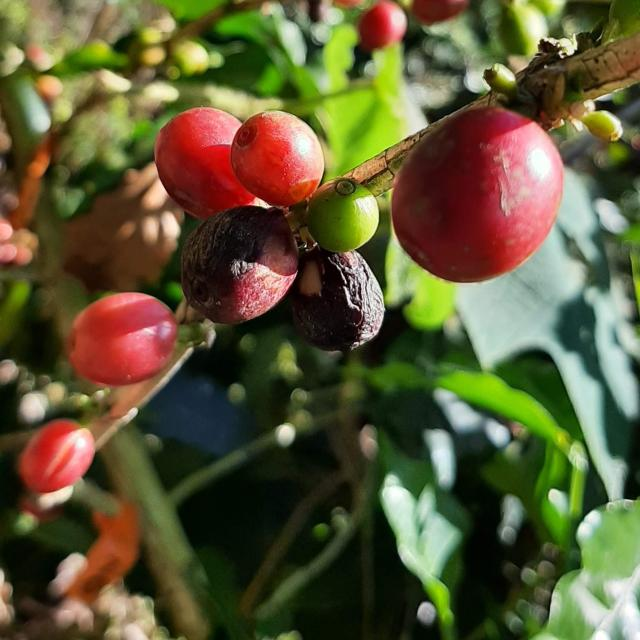green: (307, 178, 380, 252)
red: (392, 106, 564, 282), (181, 206, 298, 324), (154, 107, 255, 219), (67, 293, 177, 386), (291, 248, 385, 351), (230, 111, 324, 206), (18, 420, 95, 494), (358, 0, 407, 51)
